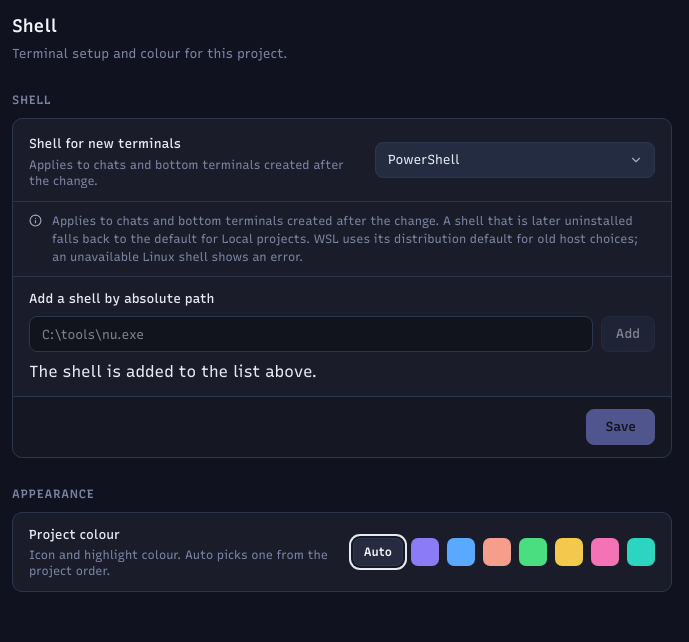
Test: ShellTab › shows a validation error when main rejects the custom path
The width and height of the screenshot is (689, 642).
Expected: the dropdown with test id "settings-shell-select" is shown, [375, 142, 655, 178]
Type "D:\\missing.exe" into the field with test id "settings-shell-custom-input" at (311, 334), box [29, 316, 593, 352]
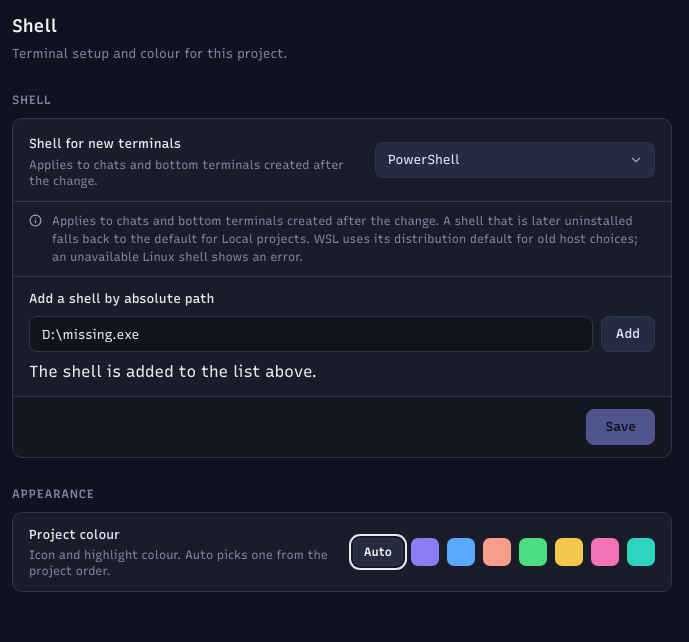
Click the button with test id "settings-shell-custom-add" at (628, 334), box [601, 316, 655, 352]
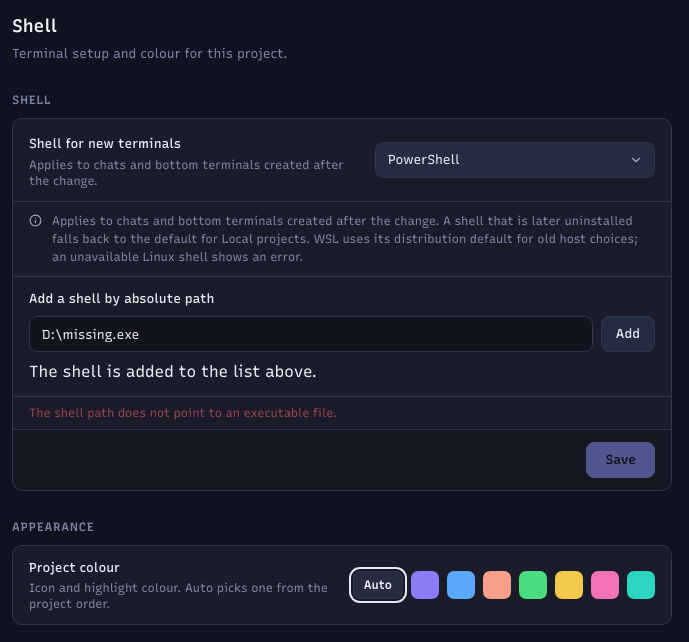
Expected: the message shows "executable file", [29, 406, 337, 420]
